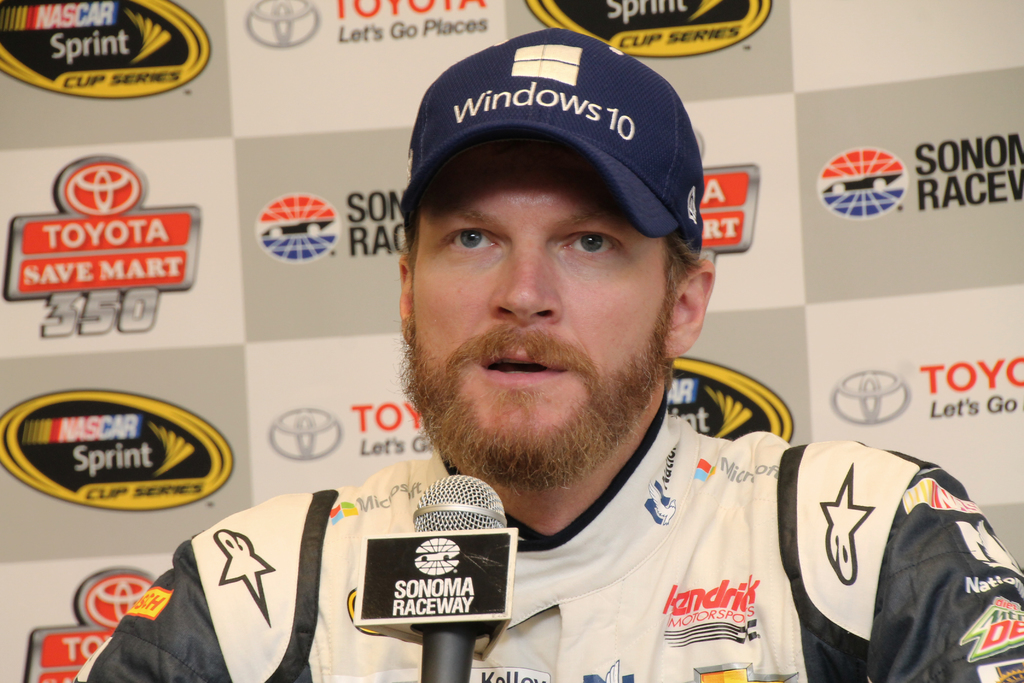Human-face: (416, 138, 671, 447)
